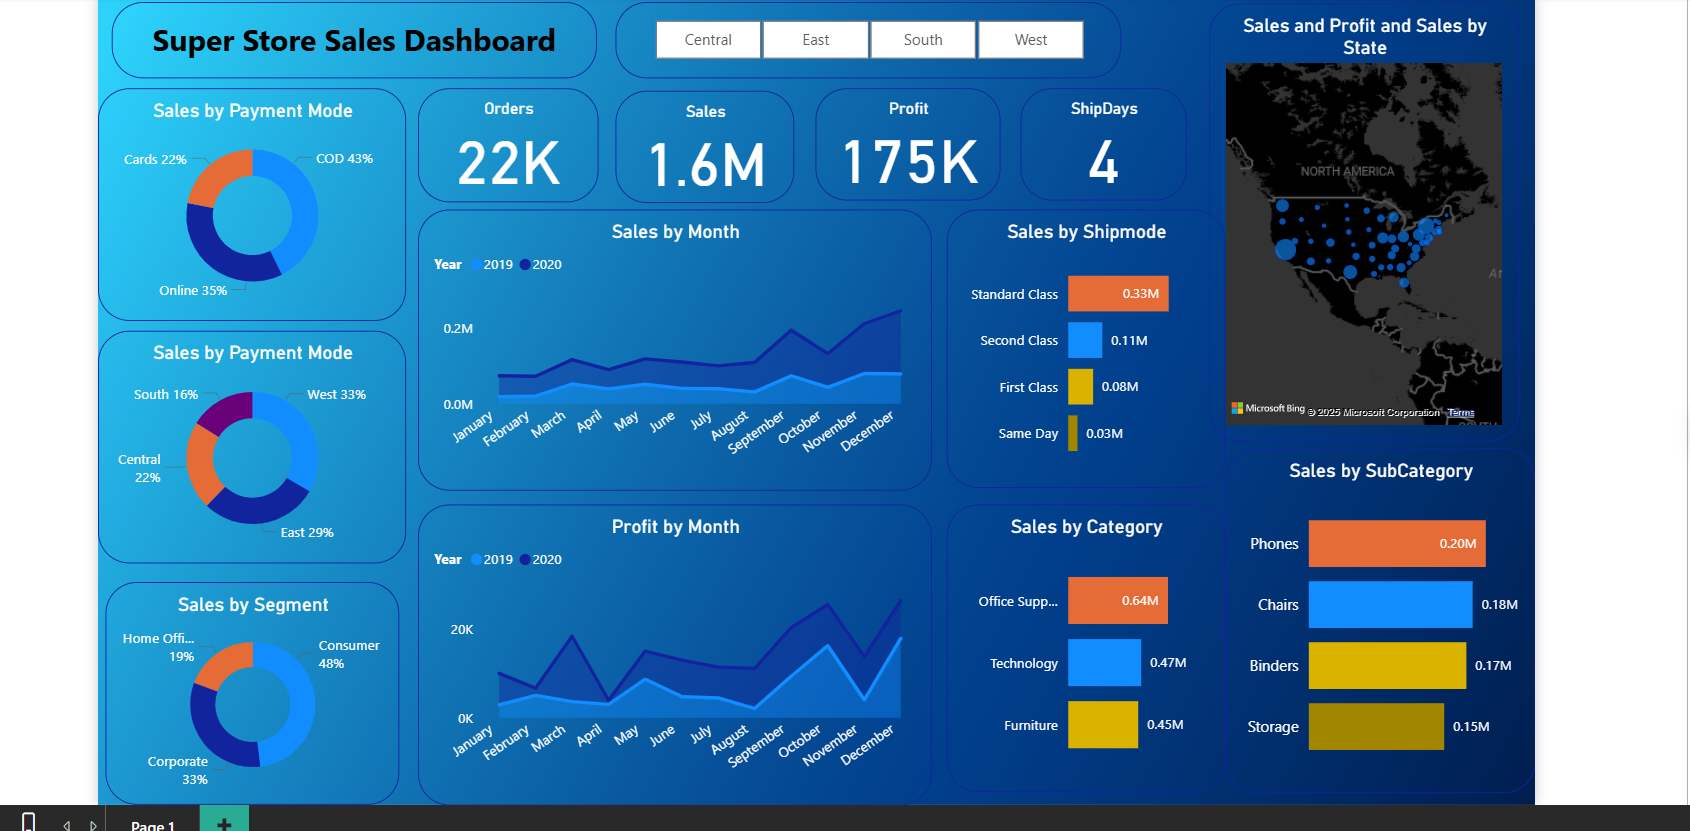

Layout of this report page (visuals, bound fields, positions):
{"tool":"powerbi","page":{"name":"Page 1","canvas":[1280,720],"ordinal":0},"visuals":[{"type":"clusteredBarChart","title":"Sales by Category","fields":{"Category":["Sheet1.Category"],"Y":["Sum(Sheet1.Sales)"]},"box":[756.3,452.1,247.9,256.3],"z":0},{"type":"clusteredBarChart","title":"Sales by SubCategory","fields":{"Category":["Sheet1.Sub-Category"],"Y":["Sum(Sheet1.Sales)"]},"box":[1004.2,401.4,276.1,307],"z":1},{"type":"clusteredBarChart","title":"Sales by Shipmode","fields":{"Category":["Sheet1.Ship Mode"],"Y":["Sum(Sheet1.Sales)"]},"box":[756.3,188.7,247.9,247.9],"z":2},{"type":"stackedAreaChart","title":"Sales by Month ","fields":{"Category":["Sheet1.Order Date.Variation.Date Hierarchy.Month","Sheet1.Order Date.Variation.Date Hierarchy.Day"],"Y":["Sum(Sheet1.Sales)"],"Series":["Sheet1.Order Date.Variation.Date Hierarchy.Year"]},"box":[284.5,188.7,457.7,250.7],"z":3},{"type":"stackedAreaChart","title":"Profit by Month ","fields":{"Category":["Sheet1.Order Date.Variation.Date Hierarchy.Month","Sheet1.Order Date.Variation.Date Hierarchy.Day"],"Series":["Sheet1.Order Date.Variation.Date Hierarchy.Year"],"Y":["Sum(Sheet1.Profit)"]},"box":[284.5,452.1,457.7,267.6],"z":4},{"type":"map","title":"Sales and Profit and Sales by State","fields":{"Category":["Sheet1.State"],"Size":["Sum(Sheet1.Sales)"]},"box":[990.1,5.6,276.1,390.1],"z":5},{"type":"donutChart","title":" Sales by Segment","fields":{"Category":["Sheet1.Segment"],"Y":["Sum(Sheet1.Sales)"]},"box":[7,521.1,262,198.6],"z":6},{"type":"donutChart","title":"Sales by Payment Mode","fields":{"Category":["Sheet1.Payment Mode"],"Y":["Sum(Sheet1.Sales)"]},"box":[0,81.7,274.6,207],"z":7},{"type":"slicer","fields":{"Values":["Sheet1.Region"]},"box":[460.6,4.2,450.7,67.6],"z":8},{"type":"textbox","box":[12.7,4.2,432.4,67.6],"z":9},{"type":"card","title":"Sales","fields":{"Values":["Sum(Sheet1.Sales)"]},"box":[460.6,83.1,159.2,100],"z":10},{"type":"card","title":"Orders","fields":{"Values":["Sum(Sheet1.Quantity)"]},"box":[284.5,81.7,160.6,101.4],"z":11},{"type":"card","title":"Profit","fields":{"Values":["Sum(Sheet1.Profit)"]},"box":[639.4,81.7,164.8,100],"z":12},{"type":"card","title":"ShipDays","fields":{"Values":["Avg(Sheet1.AvgDelivery)"]},"box":[821.1,81.7,147.9,100],"z":13},{"type":"donutChart","title":"Sales by Payment Mode","fields":{"Category":["Sheet1.Region"],"Y":["Sum(Sheet1.Sales)"]},"box":[0,297.2,274.6,207],"z":14}]}

Visuals, with their boxes on the page's 1280x720 design canvas (x1, y1, x2, y2). These are canvas units, not pixel positions in the 1690x831 screenshot, which may show the page scaled, cropped or inside an application window:
"Sales by Category" clusteredBarChart: 756, 452, 1004, 708
"Sales by SubCategory" clusteredBarChart: 1004, 401, 1280, 708
"Sales by Shipmode" clusteredBarChart: 756, 189, 1004, 437
"Sales by Month " stackedAreaChart: 284, 189, 742, 439
"Profit by Month " stackedAreaChart: 284, 452, 742, 720
"Sales and Profit and Sales by State" map: 990, 6, 1266, 396
" Sales by Segment" donutChart: 7, 521, 269, 720
"Sales by Payment Mode" donutChart: 0, 82, 275, 289
slicer - Sheet1.Region: 461, 4, 911, 72
textbox: 13, 4, 445, 72
"Sales" card: 461, 83, 620, 183
"Orders" card: 284, 82, 445, 183
"Profit" card: 639, 82, 804, 182
"ShipDays" card: 821, 82, 969, 182
"Sales by Payment Mode" donutChart: 0, 297, 275, 504
